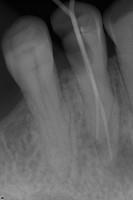Furcation Involvement: (114, 134, 133, 184)
